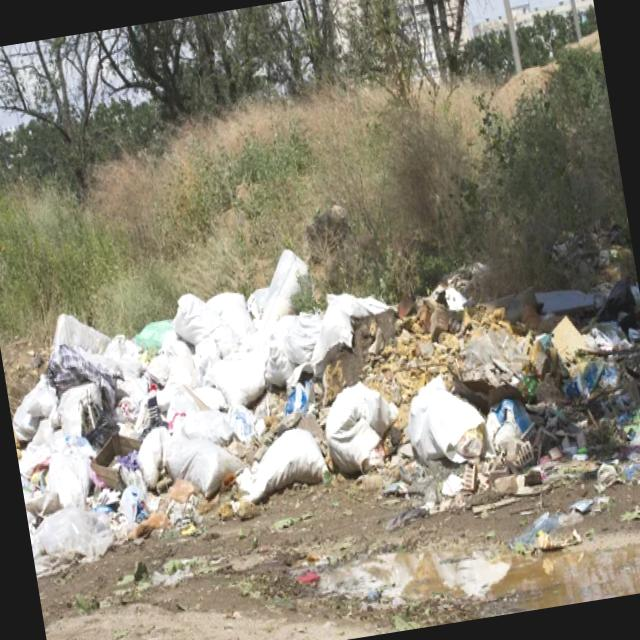garbage: (3, 205, 640, 640)
